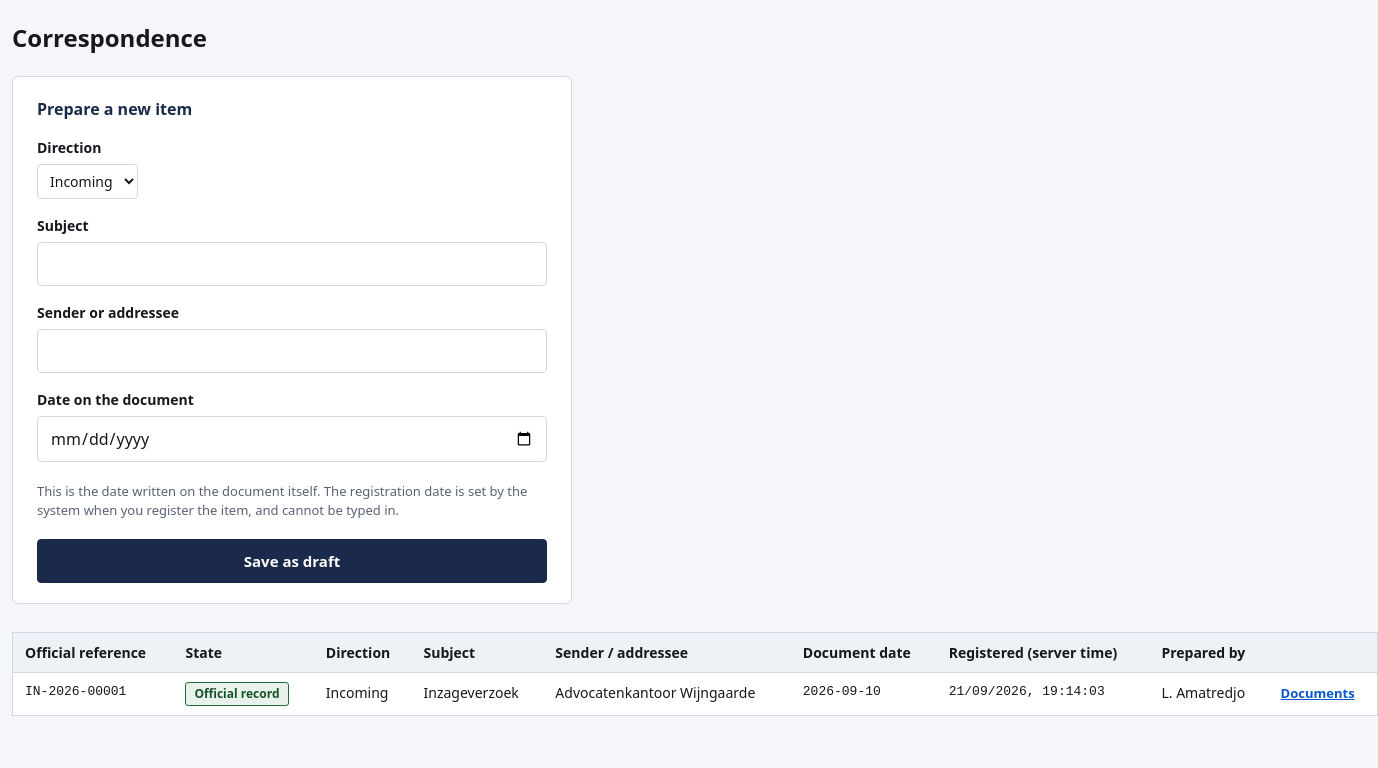
Test case: Registration duplicate warning › derived text (FR-COR-015) › distinguishes "read and empty" from "not read"
Step 1. Click the button "Documents" → (1318, 693), box [1281, 684, 1355, 702]
(page scrolled)
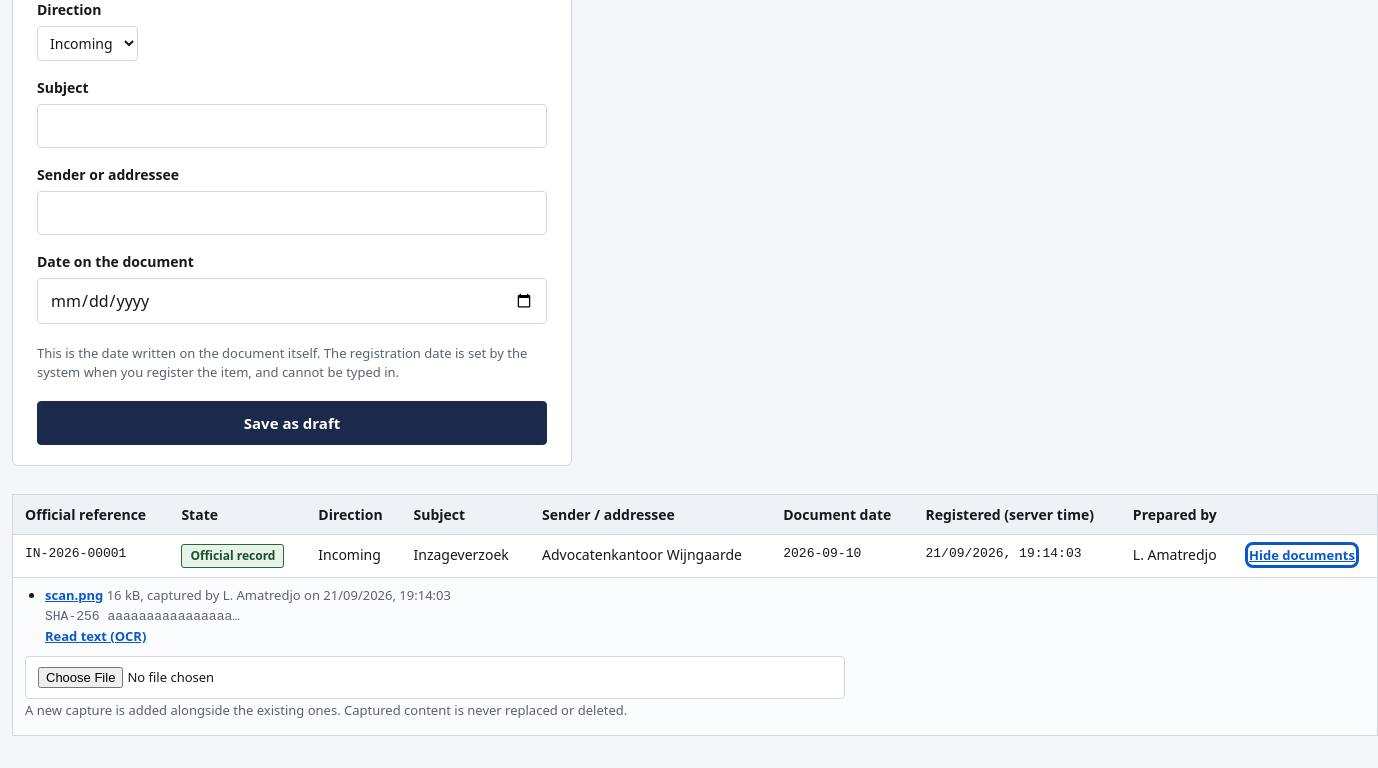
Step 2. Click the button "Read text (OCR)" → (96, 636), box [45, 627, 146, 645]
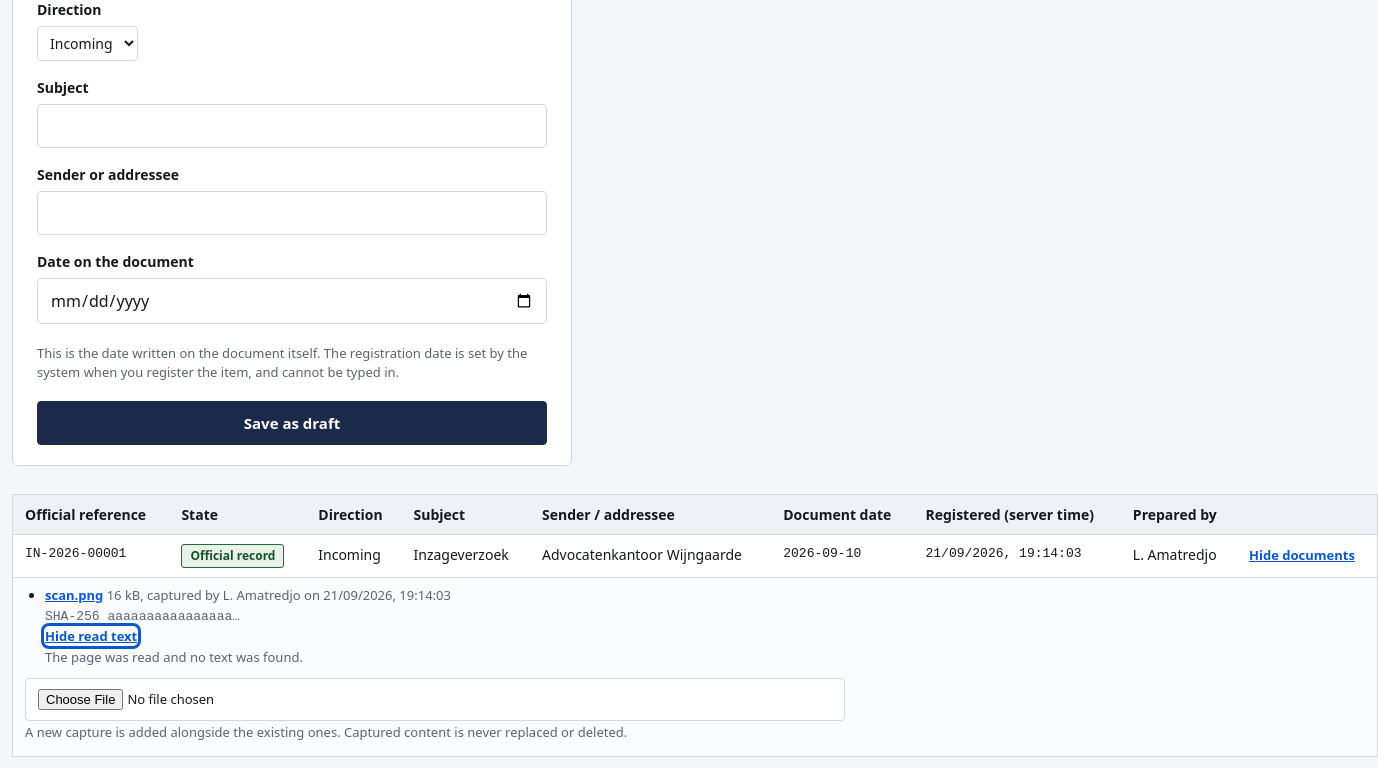
Expected: the text "The page was read and no text was found." is shown, [45, 648, 303, 666]
